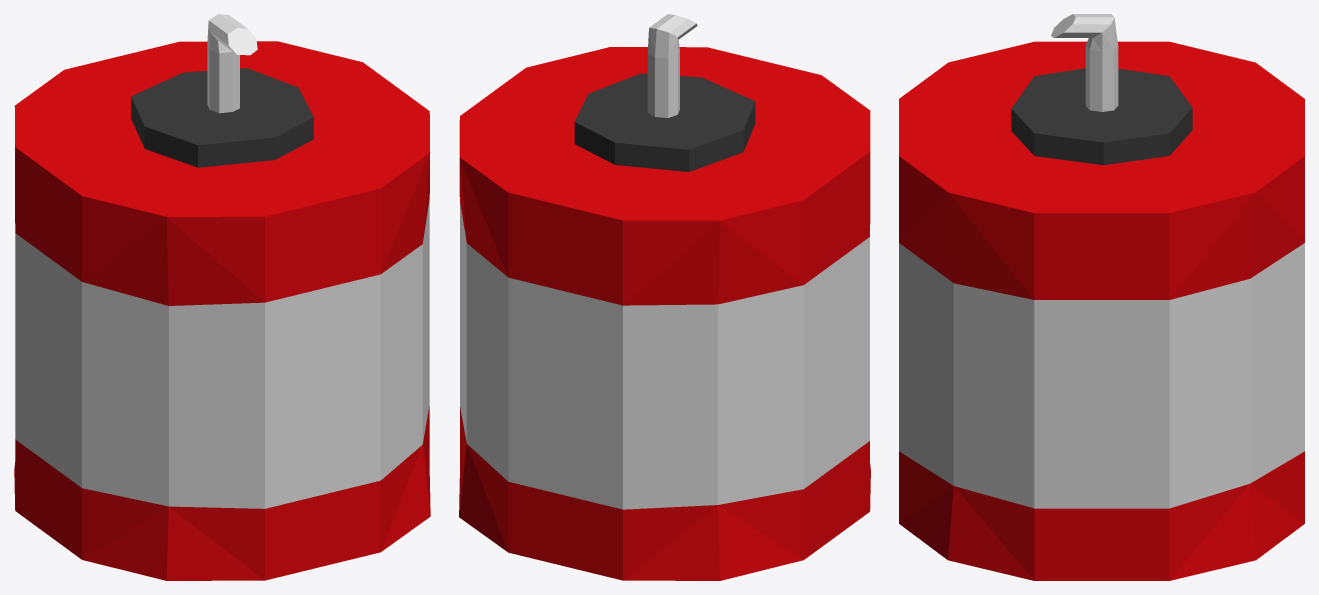
File: penguin_bomb.dae
3 renders of one model, left to right at view 1: azimuth 30°, elevation 25°; view 2: azimuth 150°, elevation 25°; view 3: azimuth 270°, elevation 25°, orthographic. The views are drawn at different scales.
Visible parts, largest first — view 1: Penguin_Bomb; view 2: Penguin_Bomb; view 3: Penguin_Bomb.
Part boxes in pixels (x1,y1,x2,y2): Penguin_Bomb: (14, 14, 430, 580); Penguin_Bomb: (459, 14, 870, 580); Penguin_Bomb: (899, 14, 1304, 580).
Size of the model in its own units: 0.3459 by 0.3459 by 0.4505.
